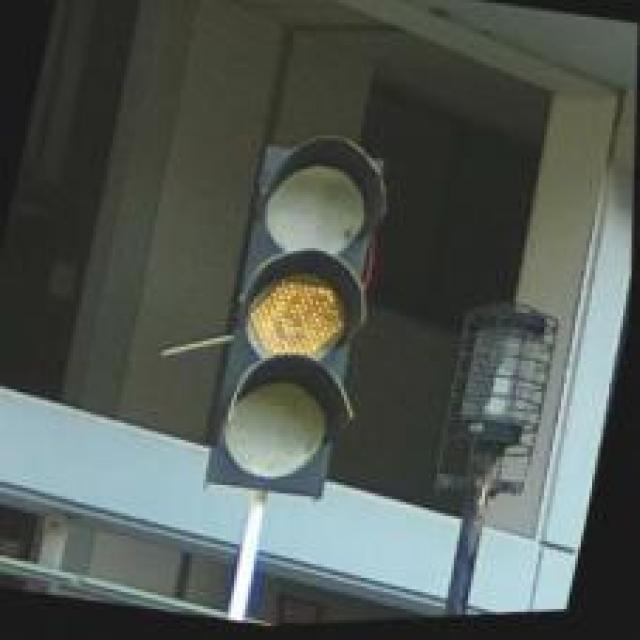yellow_light: (206, 136, 385, 499)
